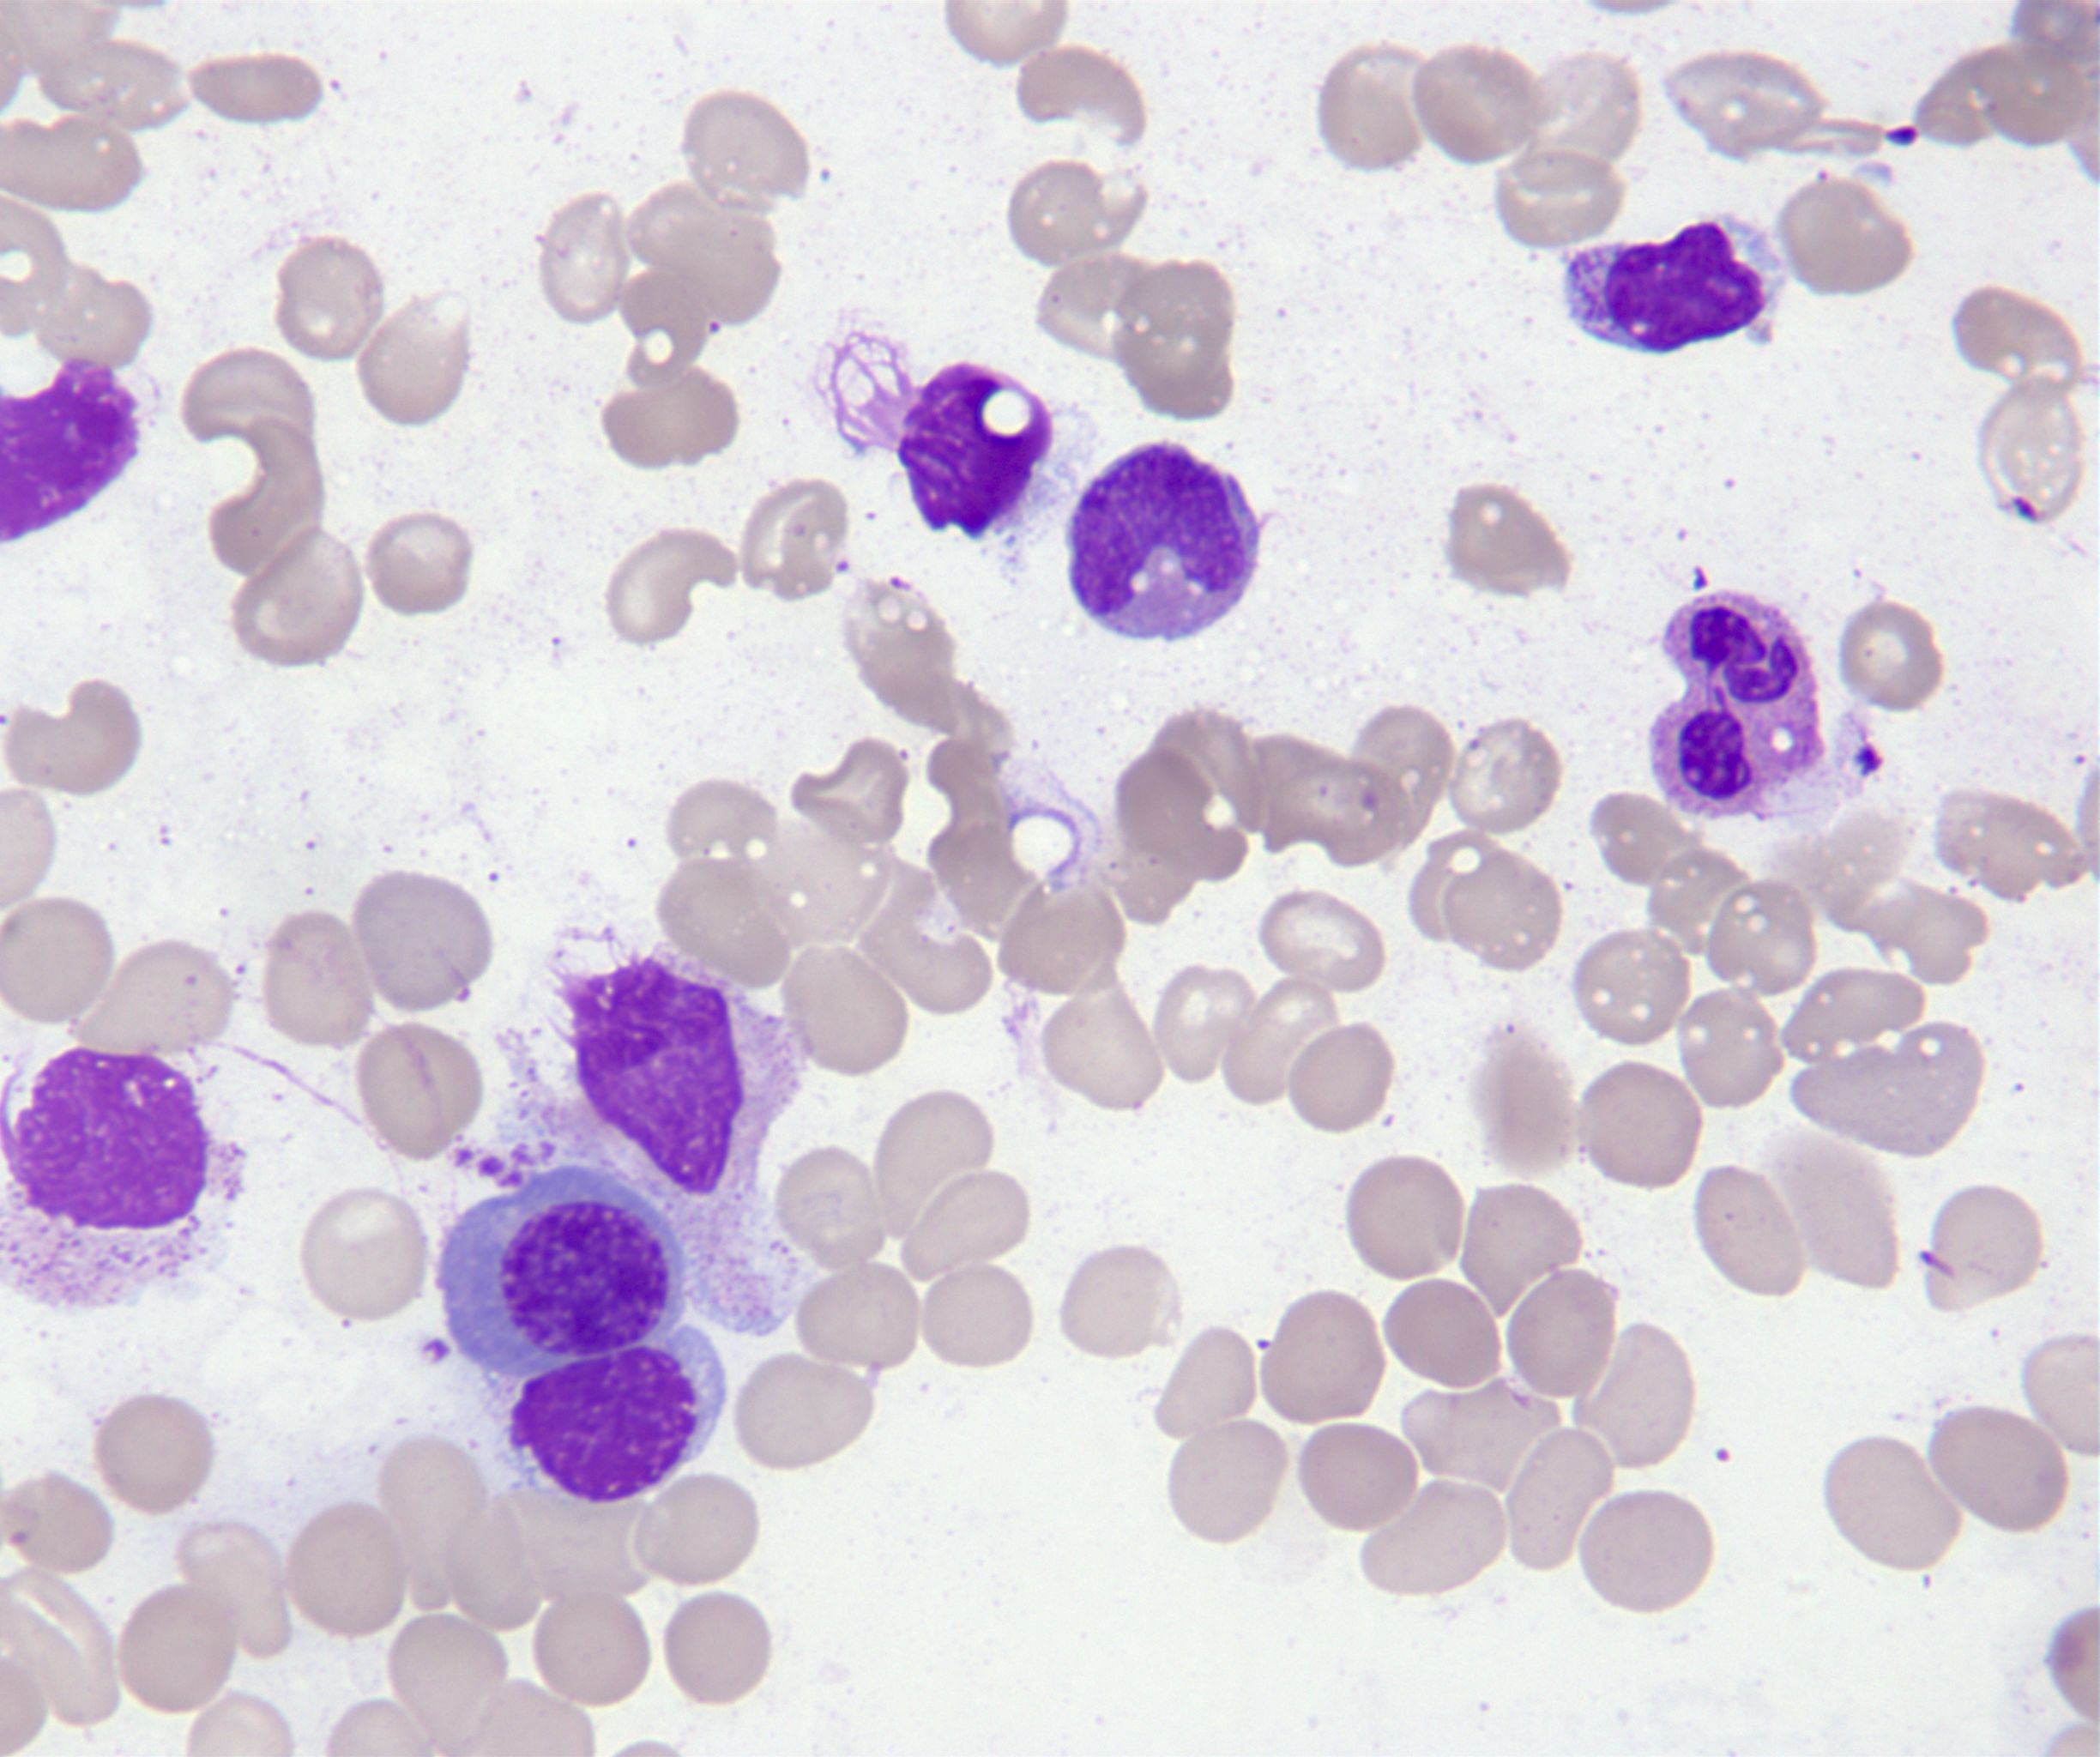23: (443, 1167, 685, 1377)
32: (1566, 215, 1783, 352)
4: (1071, 438, 1258, 640)
6: (1650, 593, 1826, 817)
x: (501, 942, 809, 1335), (2, 1050, 244, 1310), (815, 328, 1052, 543), (506, 1324, 726, 1506)
